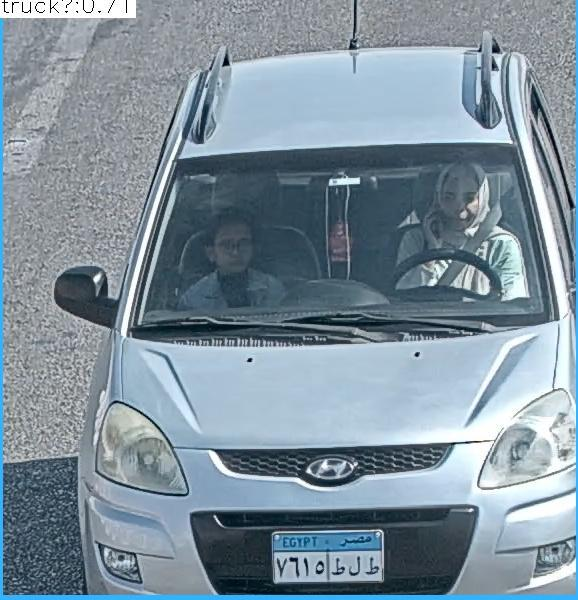windshield: (119, 137, 565, 338)
